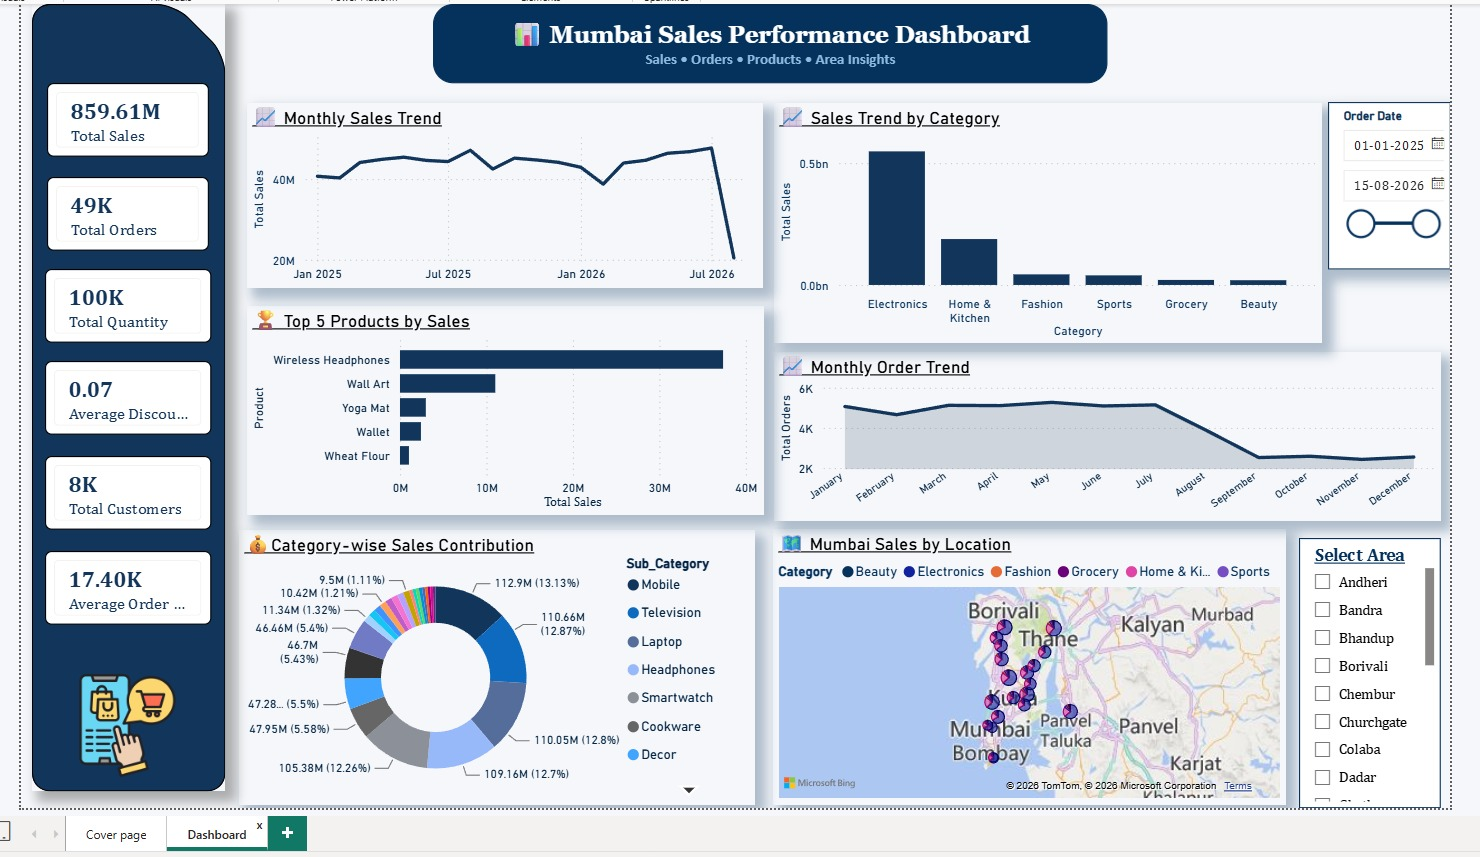

The page's visual inventory and layout, read from the dashboard file:
{"tool":"powerbi","page":{"name":"Dashboard","canvas":[1280,720],"ordinal":1},"visuals":[{"type":"shape","box":[9.7,0,173.1,705.2],"z":0},{"type":"cardVisual","fields":{"Data":["Raw_Data.Total Sales"]},"box":[23.3,71,144.9,66.1],"z":1000},{"type":"cardVisual","fields":{"Data":["Raw_Data.Total Orders"]},"box":[23.3,154.7,144.9,66.1],"z":2000},{"type":"cardVisual","fields":{"Data":["Raw_Data.Total Quantity"]},"box":[21.4,237.3,148.8,66.1],"z":3000},{"type":"cardVisual","fields":{"Data":["Raw_Data.Average Discount"]},"box":[21.4,320,148.8,66.1],"z":4000},{"type":"cardVisual","fields":{"Data":["Raw_Data.Total Customers"]},"box":[21.4,404.6,148.8,66.1],"z":5000},{"type":"cardVisual","fields":{"Data":["Raw_Data.Average Order Value"]},"box":[21.4,490.2,148.8,66.1],"z":6000},{"type":"lineChart","title":"📈 Monthly Sales Trend","fields":{"Category":["Raw_Data.Order_Date.Variation.Date Hierarchy.Year","Raw_Data.Order_Date.Variation.Date Hierarchy.Month"],"Y":["Raw_Data.Total Sales"]},"box":[202.3,88.5,462,166.3],"z":7000},{"type":"columnChart","title":"📈 Sales Trend by Category","fields":{"Category":["Raw_Data.Category"],"Y":["Raw_Data.Total Sales"]},"box":[674,88.5,491.2,215],"z":8000},{"type":"barChart","title":"🏆 Top 5 Products by Sales","fields":{"Y":["Raw_Data.Total Sales"],"Category":["Raw_Data.Product"]},"box":[202.1,270.5,462.7,187.2],"z":9000},{"type":"donutChart","title":"💰Category-wise Sales Contribution ","fields":{"Y":["Raw_Data.Total Sales"],"Category":["Raw_Data.Sub_Category"]},"box":[195.5,470.8,462,246.1],"z":10000},{"type":"map","title":"🗺️ Mumbai Sales by Location","fields":{"Size":["Raw_Data.Total Sales"],"Category":["Raw_Data.Area"],"Series":["Raw_Data.Category"]},"box":[673.7,470.6,458.7,246.7],"z":11000},{"type":"lineChart","title":"📈 Monthly Order Trend","fields":{"Category":["Raw_Data.Order_Date.Variation.Date Hierarchy.Month"],"Y":["Raw_Data.Total Orders"]},"box":[674.5,311.8,596.5,150.9],"z":12000},{"type":"slicer","fields":{"Values":["Raw_Data.Order_Date"]},"box":[1170,88.2,110,149.6],"z":12001},{"type":"slicer","fields":{"Values":["Raw_Data.Area"]},"box":[1144.3,478.5,126.8,241.7],"z":12002},{"type":"textbox","box":[368.5,0,604.3,71.3],"z":12003},{"type":"image","box":[31.7,599.4,127.8,94.1],"z":12005}]}

Visuals, with their boxes in screenshot pixels (x1, y1, x2, y2):
shape: [26, 0, 224, 800]
cardVisual - Raw_Data.Total Sales: [42, 77, 207, 152]
cardVisual - Raw_Data.Total Orders: [42, 173, 207, 248]
cardVisual - Raw_Data.Total Quantity: [40, 267, 209, 342]
cardVisual - Raw_Data.Average Discount: [40, 361, 209, 436]
cardVisual - Raw_Data.Total Customers: [40, 458, 209, 533]
cardVisual - Raw_Data.Average Order Value: [40, 555, 209, 630]
"📈 Monthly Sales Trend" lineChart: [246, 97, 773, 287]
"📈 Sales Trend by Category" columnChart: [784, 97, 1344, 342]
"🏆 Top 5 Products by Sales" barChart: [246, 305, 773, 518]
"💰Category-wise Sales Contribution " donutChart: [238, 533, 765, 814]
"🗺️ Mumbai Sales by Location" map: [784, 533, 1307, 814]
"📈 Monthly Order Trend" lineChart: [785, 352, 1465, 524]
slicer - Raw_Data.Order_Date: [1350, 97, 1475, 267]
slicer - Raw_Data.Area: [1320, 542, 1465, 817]
textbox: [436, 0, 1125, 77]
image: [52, 680, 197, 787]
